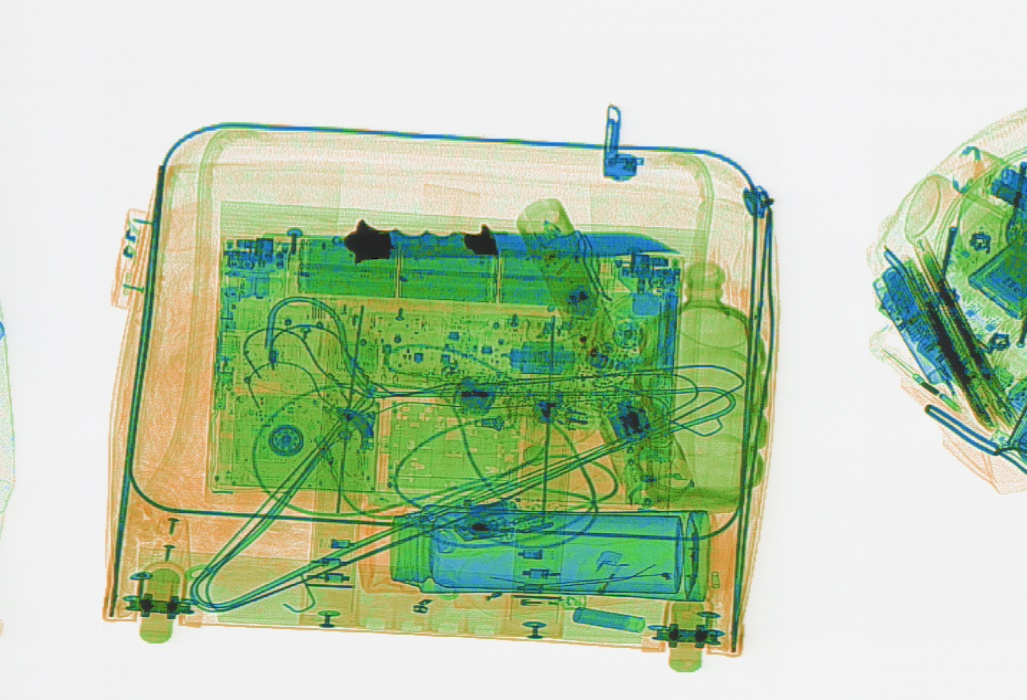knife: (329, 218, 678, 264)
